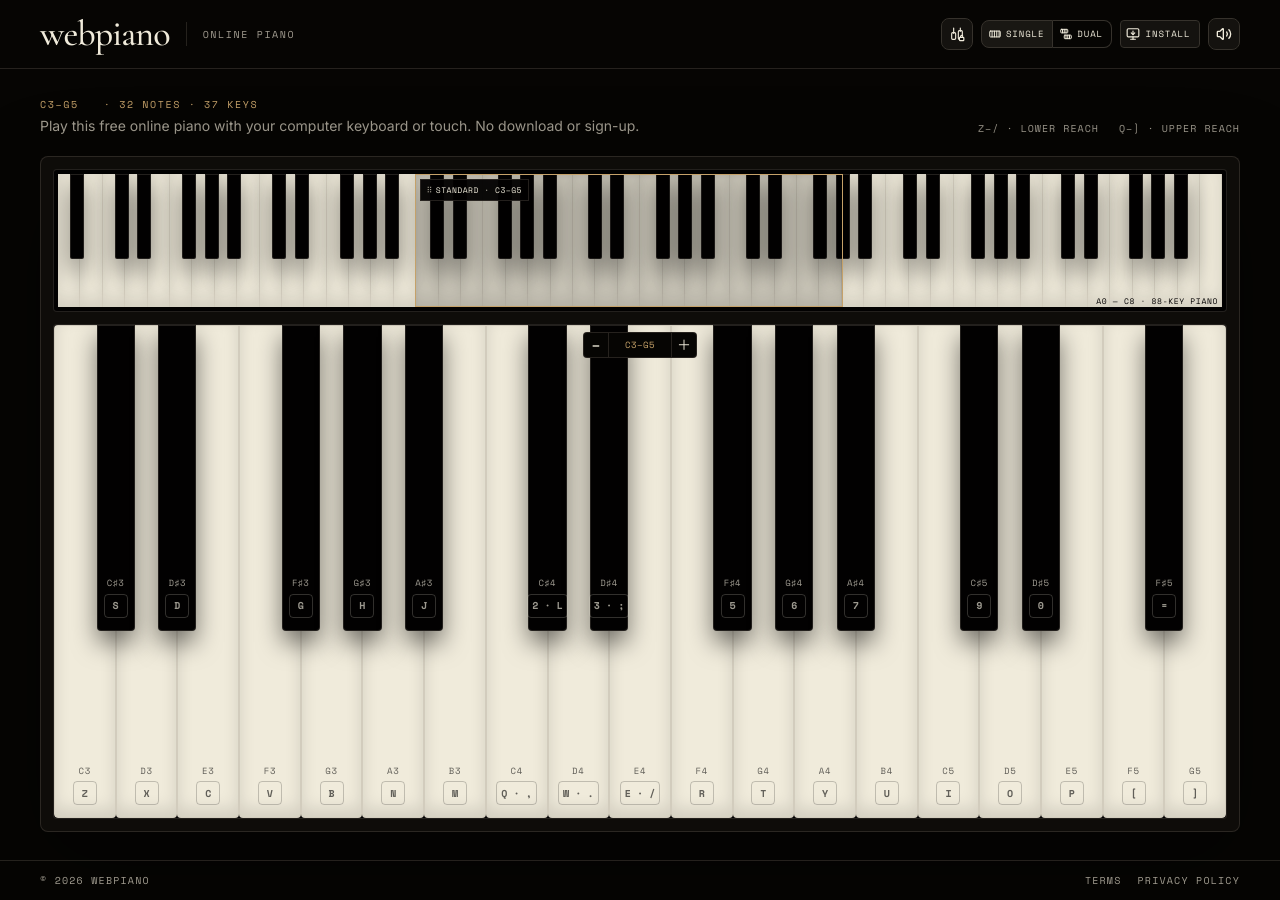
Test: PianoInstrument › opens two independent semitone ranges and keeps their settings during the session
Click the button with aria-label "Dual keyboard" at (1083, 34), box [1053, 20, 1112, 48]
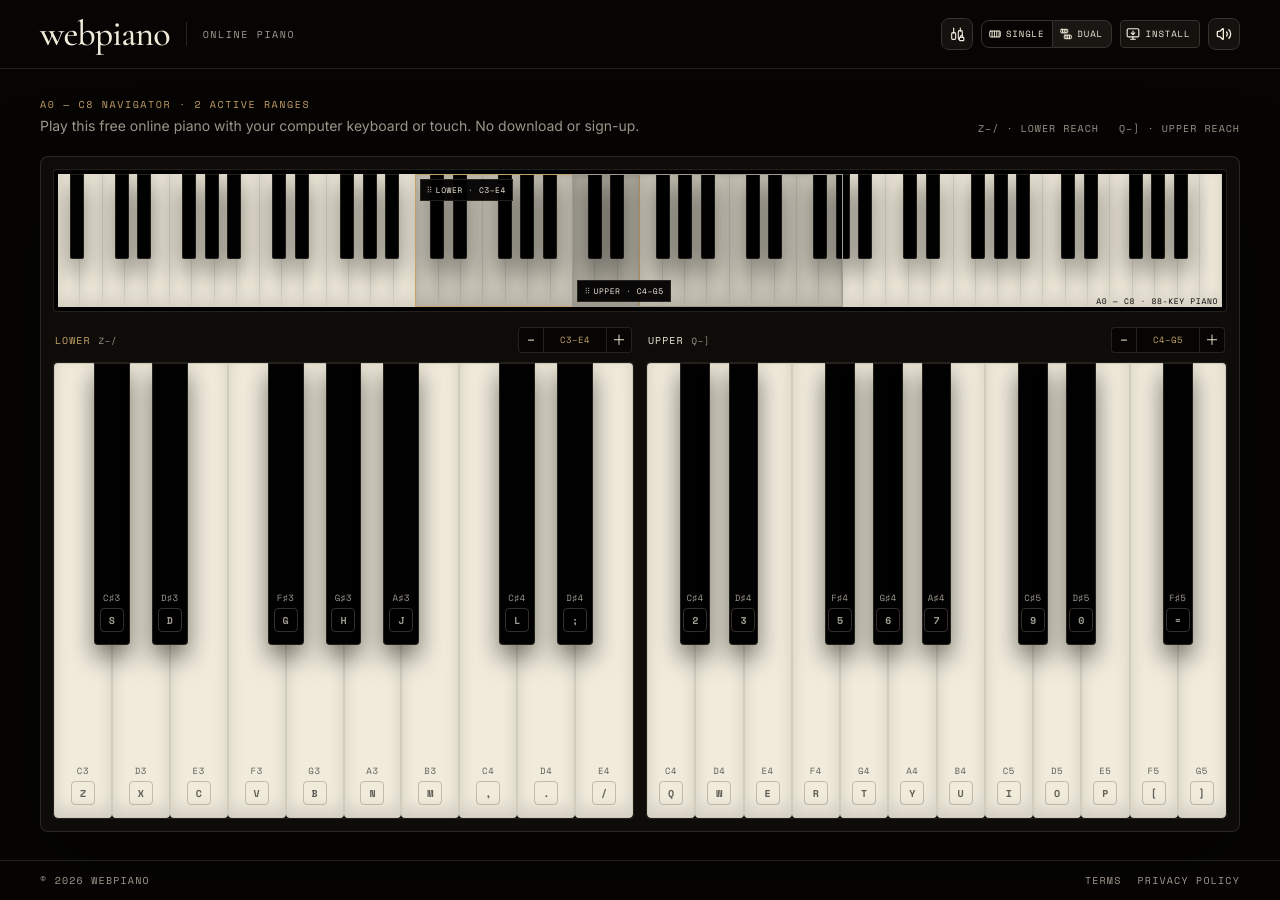
Now the element named "Move Lower range" is shown, box [415, 174, 640, 307]
Now the element named "Move Upper range" is shown, box [572, 174, 843, 307]
Now the element named "Lower playable piano" is shown, box [53, 362, 634, 819]
Click the button named "Lower semitone down" at (531, 340), box [519, 328, 543, 352]
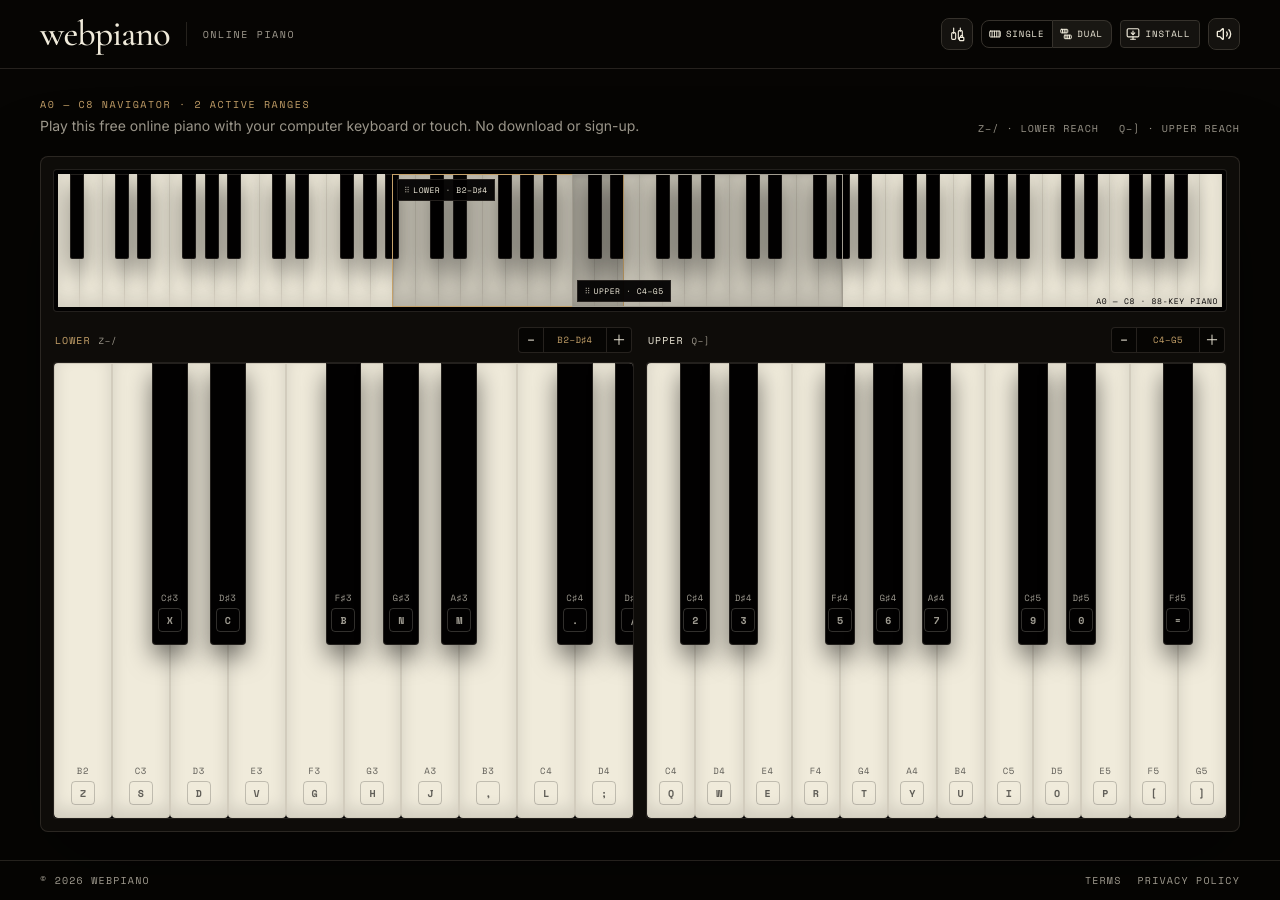
Click the button named "Upper semitone up" at (1212, 340), box [1200, 328, 1224, 352]
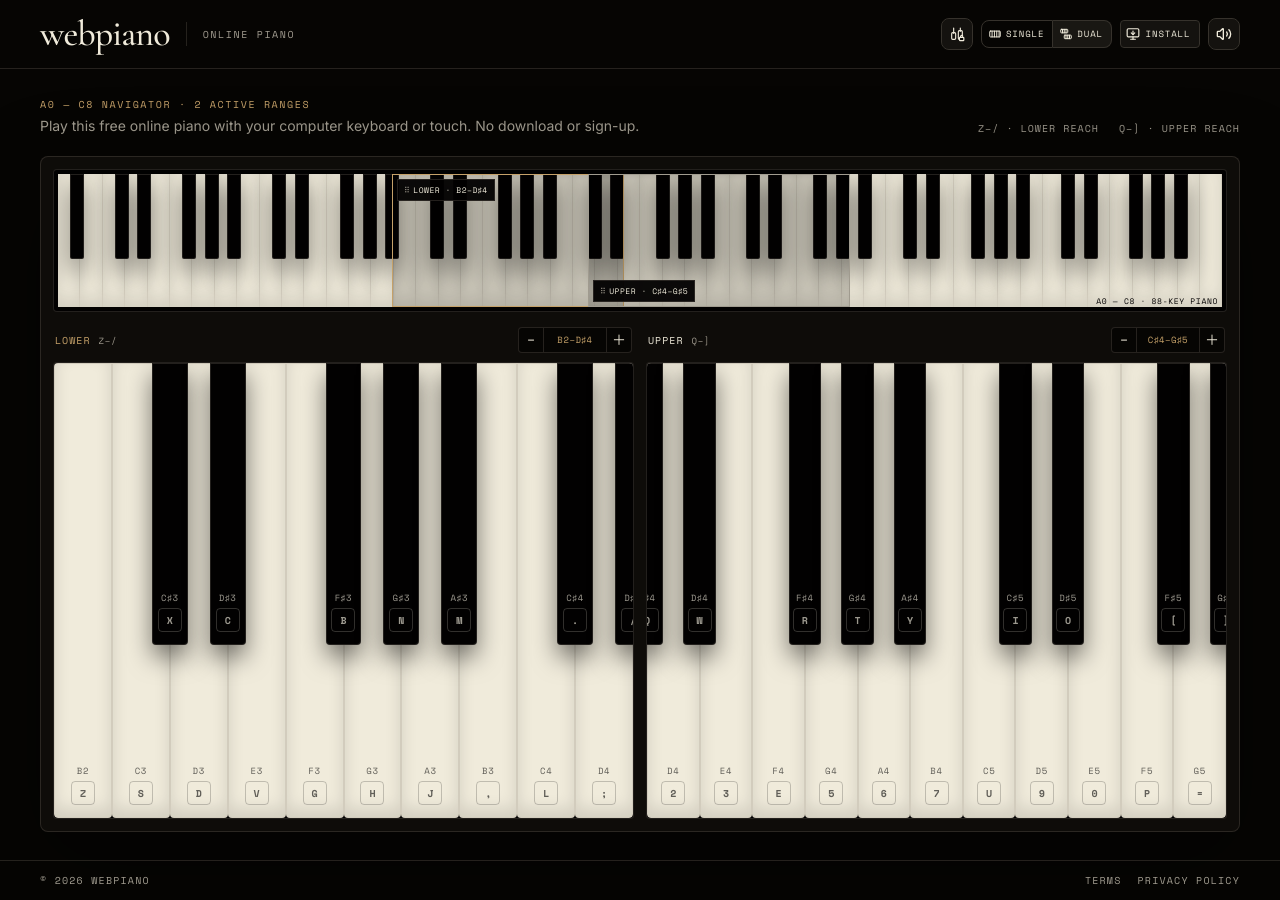
Press KeyZ
Press KeyQ
Click the button with aria-label "Single keyboard" at (1017, 34), box [981, 20, 1053, 48]
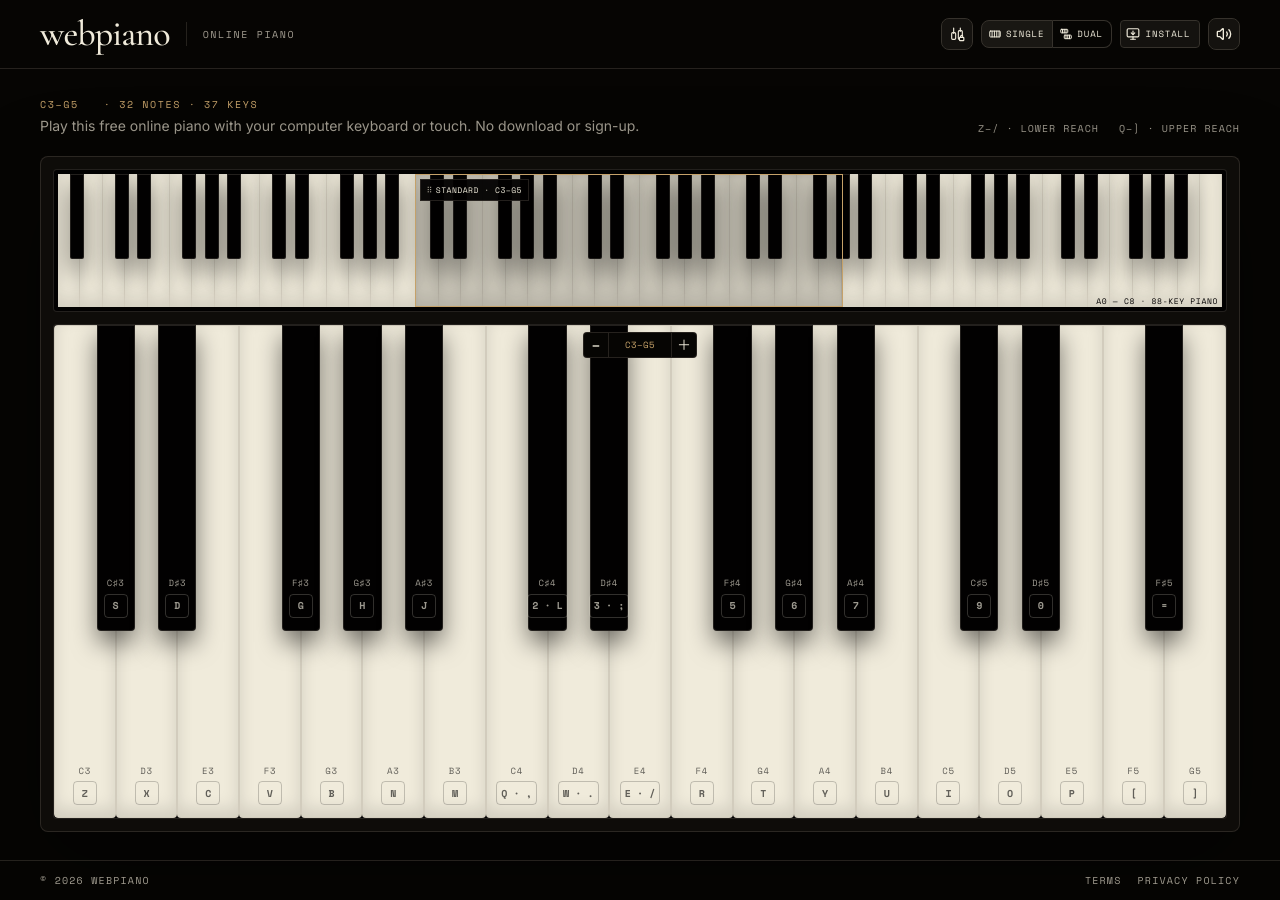
Press KeyZ
Click the button with aria-label "Dual keyboard" at (1083, 34), box [1053, 20, 1112, 48]
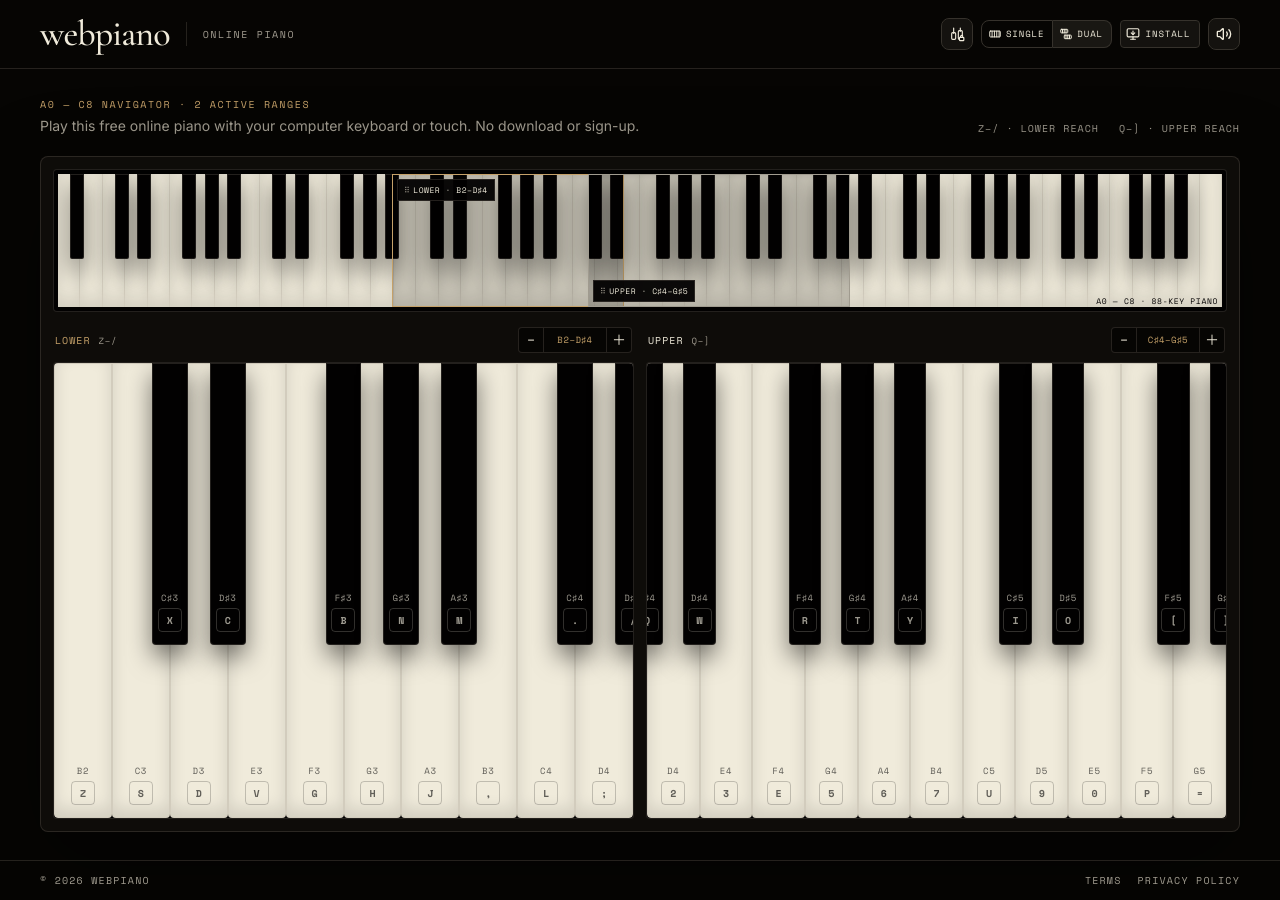
Now the text named "Lower range" reads "B2–D♯4", box [557, 333, 593, 346]
Now the text named "Upper range" reads "C♯4–G♯5", box [1148, 333, 1188, 346]
